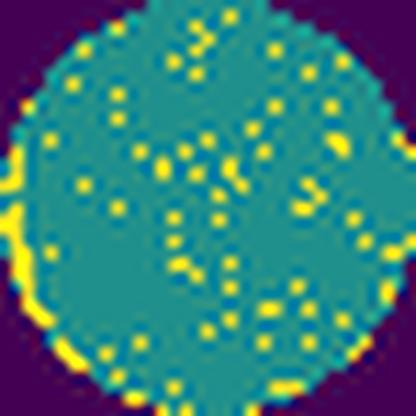Edge-Loc: (0, 206, 55, 332), (52, 336, 94, 376), (0, 152, 31, 190)
